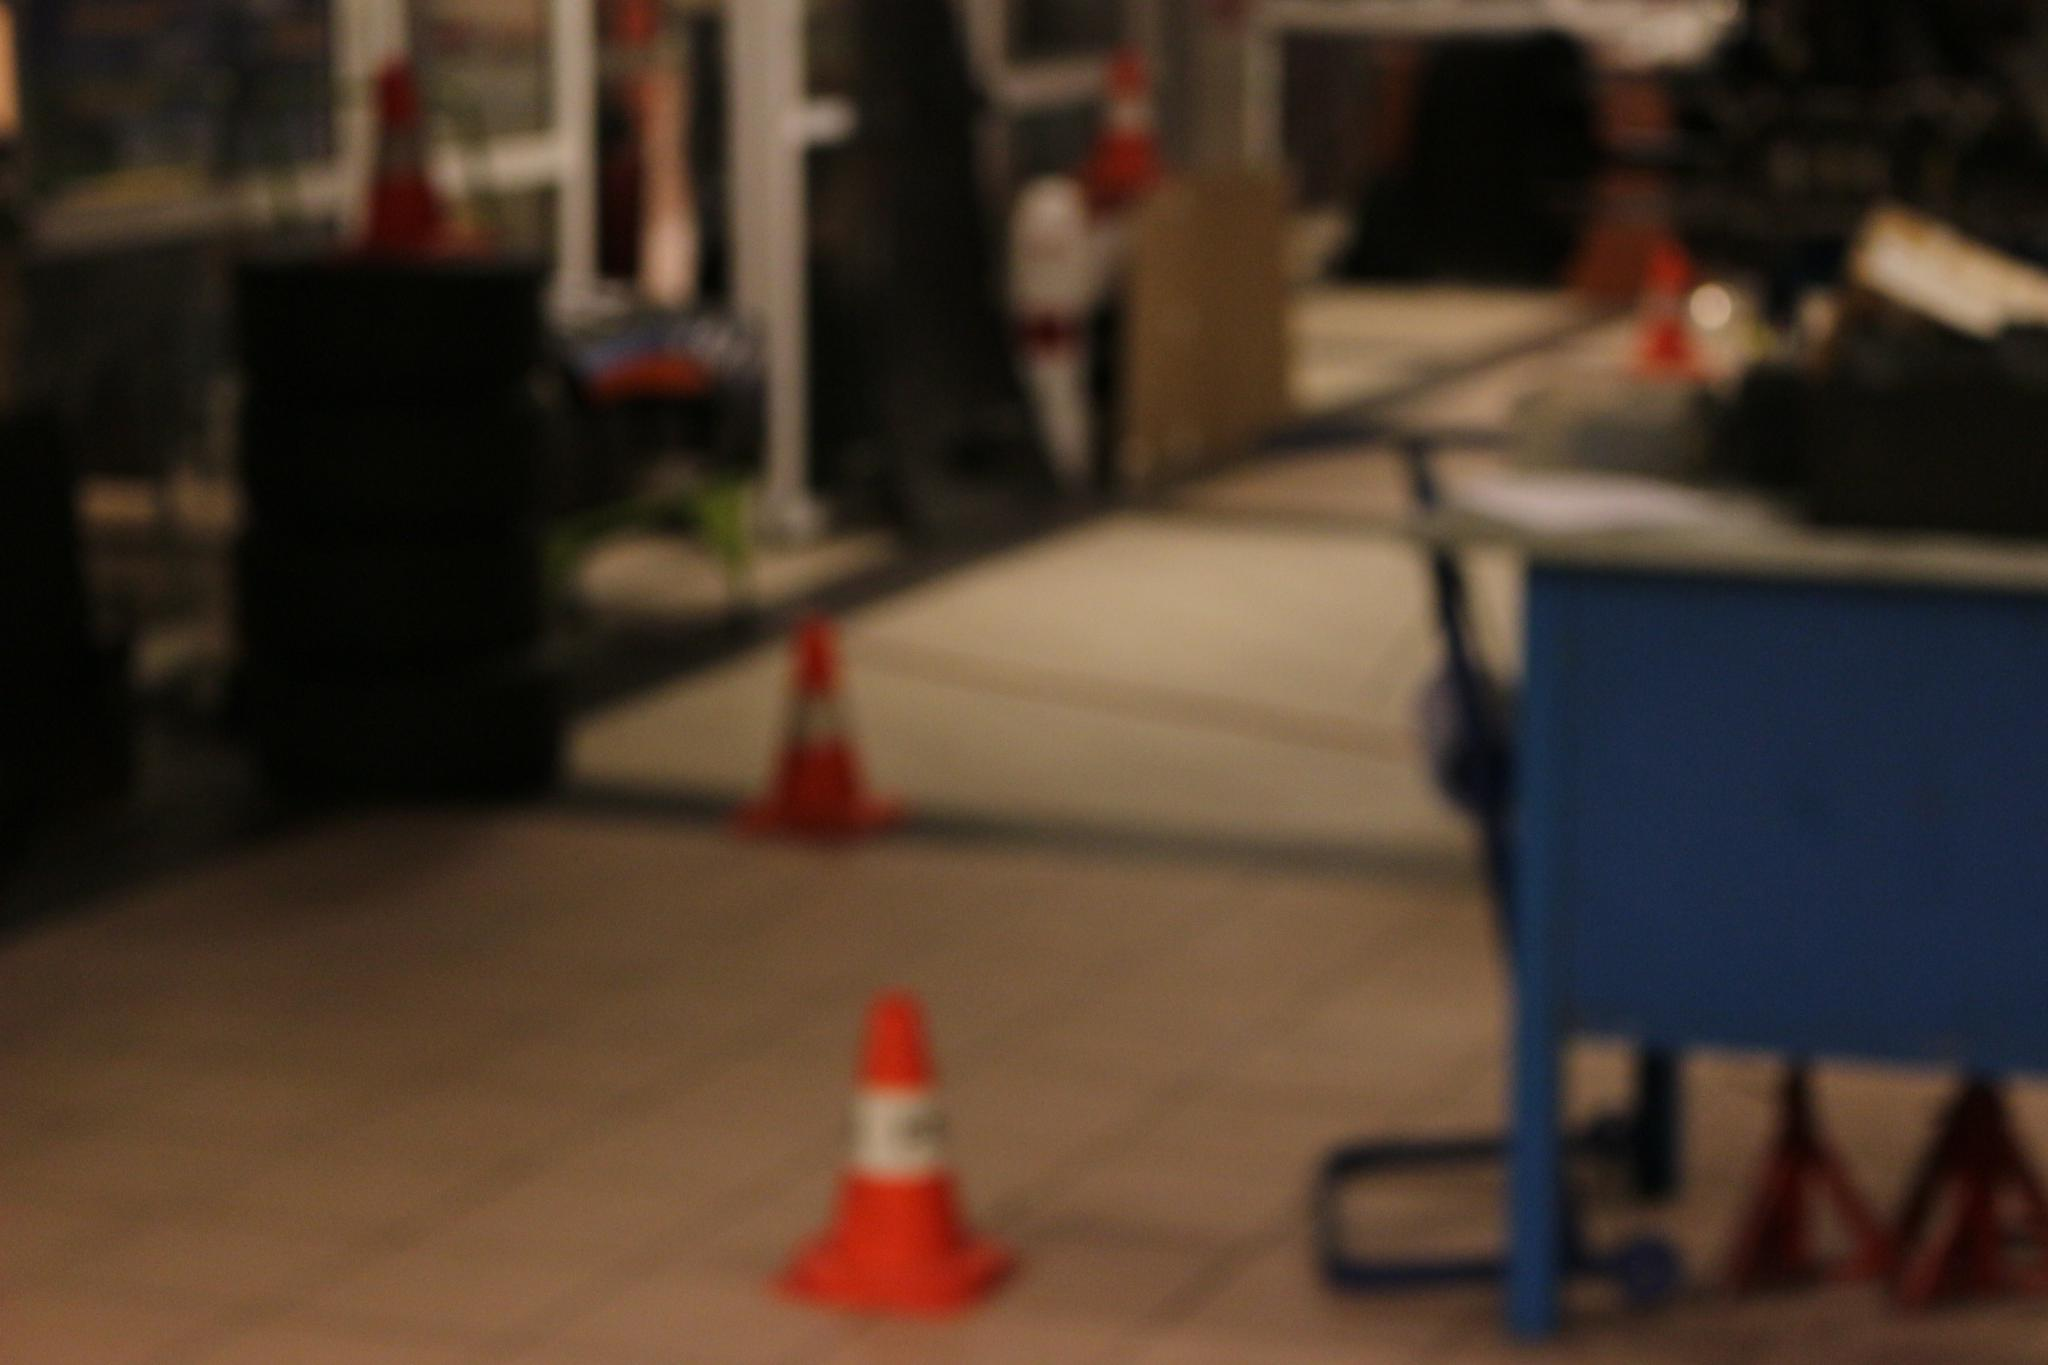Orange_Cone: (778, 978, 1020, 1316), (725, 606, 907, 849), (348, 60, 446, 256), (1082, 39, 1172, 200), (1632, 236, 1698, 381)
